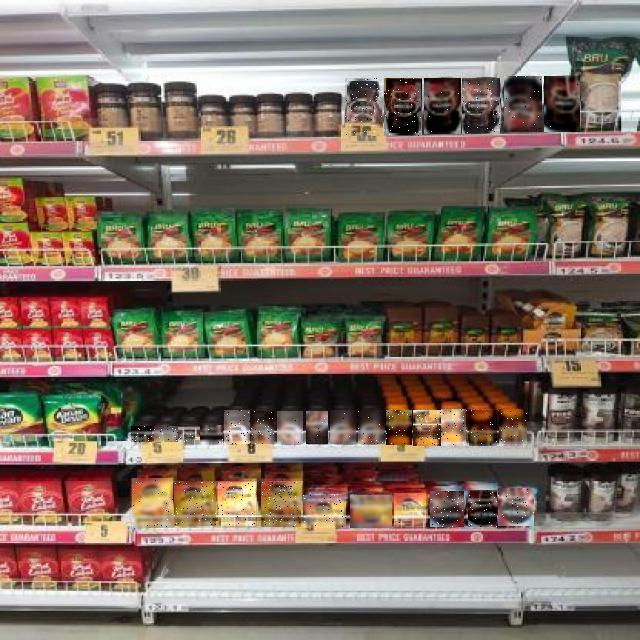Coffee: (384, 78, 422, 136), (345, 79, 383, 137), (504, 77, 542, 133), (463, 78, 501, 134), (424, 78, 461, 134), (132, 478, 173, 528), (545, 76, 581, 132), (175, 483, 217, 527), (262, 482, 301, 527), (218, 482, 256, 526), (303, 495, 346, 528), (350, 495, 392, 528), (498, 489, 534, 527), (430, 491, 464, 527), (394, 493, 426, 527), (468, 490, 497, 527), (499, 410, 527, 446), (469, 411, 497, 447), (413, 411, 441, 447), (442, 410, 468, 446), (358, 411, 385, 445), (386, 410, 412, 445), (224, 410, 250, 444), (330, 411, 356, 445), (277, 411, 303, 444), (251, 411, 274, 444), (306, 411, 328, 444), (200, 426, 223, 444), (178, 426, 200, 444), (154, 426, 178, 442), (131, 427, 152, 443)
